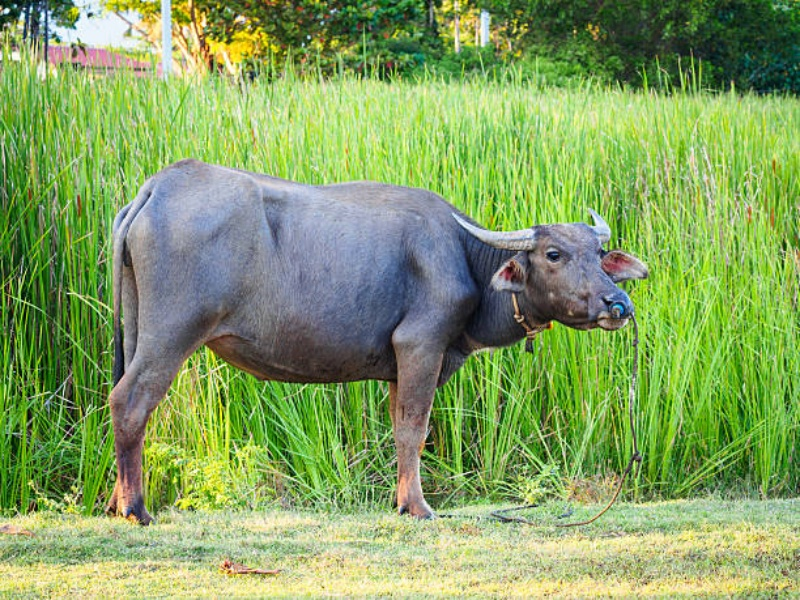buffalo: (82, 156, 644, 525)
